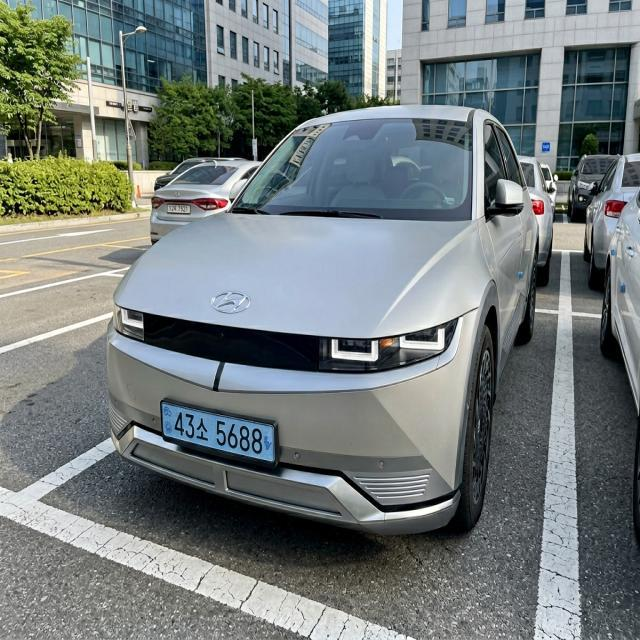car: (145, 380, 308, 479)
carev: (157, 399, 174, 444), (261, 421, 278, 463)
